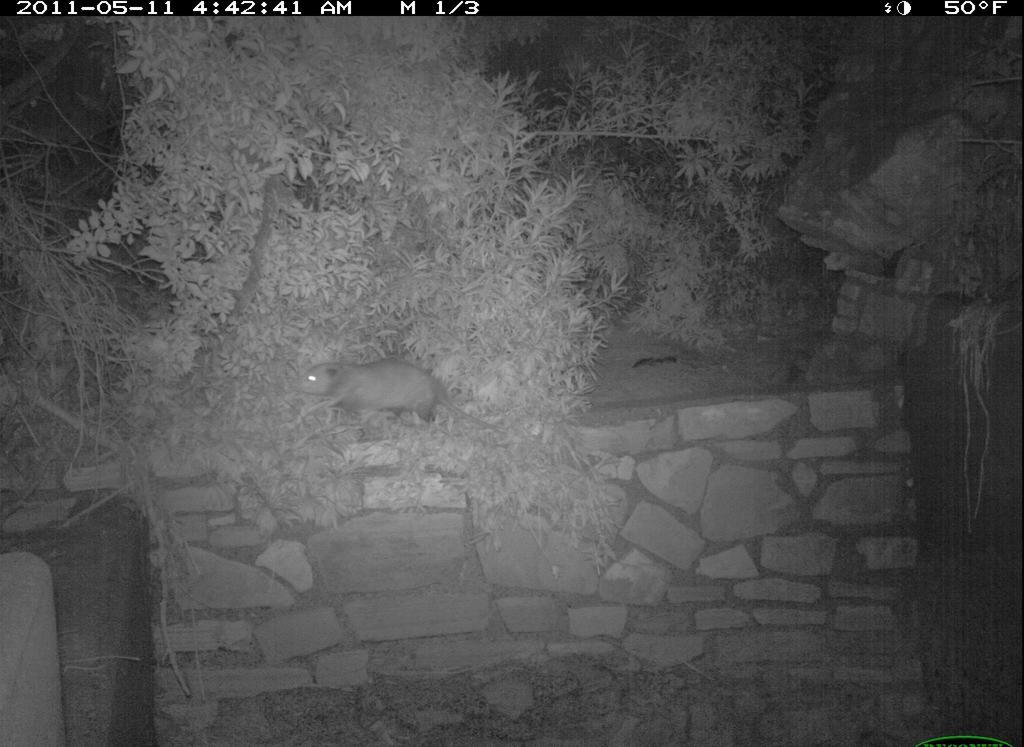opossum: (295, 355, 514, 446)
